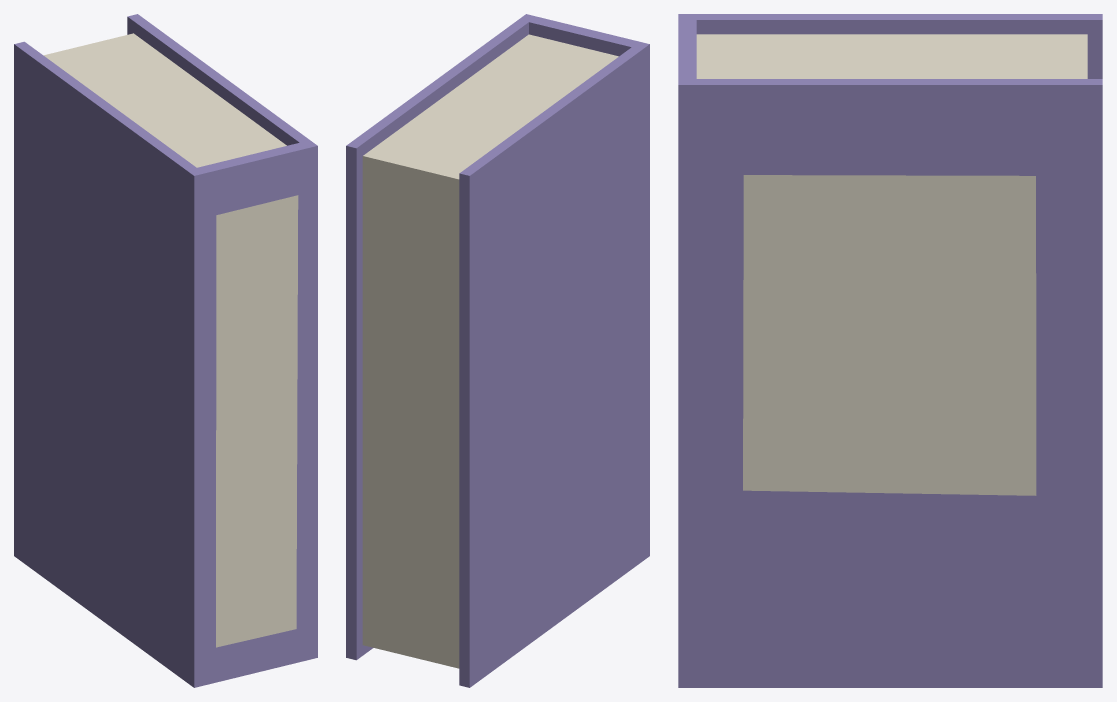
File: book15.fbx
The picture shows the model from 3 angles, left to right: view 1: azimuth 30°, elevation 25°; view 2: azimuth 150°, elevation 25°; view 3: azimuth 270°, elevation 25°; orthographic projection. The views are drawn at different scales.
Parts seen in each view (by area): view 1: Boole_4; view 2: Boole_4; view 3: Boole_4.
Part boxes in pixels (x1,y1,x2,y2): Boole_4: [14, 14, 317, 687]; Boole_4: [346, 14, 649, 687]; Boole_4: [678, 14, 1102, 687].
Size of the model in its own units: 11.73 by 46.4 by 29.58.
